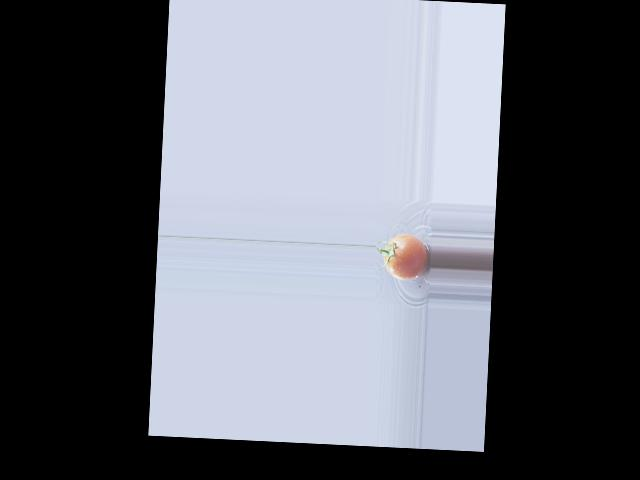tomato: (383, 233, 429, 280)
